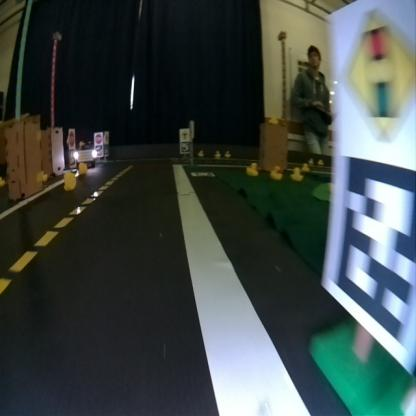Duckie: (62, 172, 76, 190), (246, 162, 257, 176), (291, 168, 303, 180), (271, 164, 281, 178), (79, 162, 88, 174), (214, 149, 220, 157), (197, 149, 203, 156), (225, 149, 229, 157)
Duckiebot: (72, 143, 96, 167)
Intersection sign: (181, 130, 187, 139)
QR code: (336, 156, 414, 349), (180, 142, 190, 152)
Signal sign: (344, 8, 415, 138)
Stop sign: (68, 129, 75, 146), (94, 133, 102, 143)
